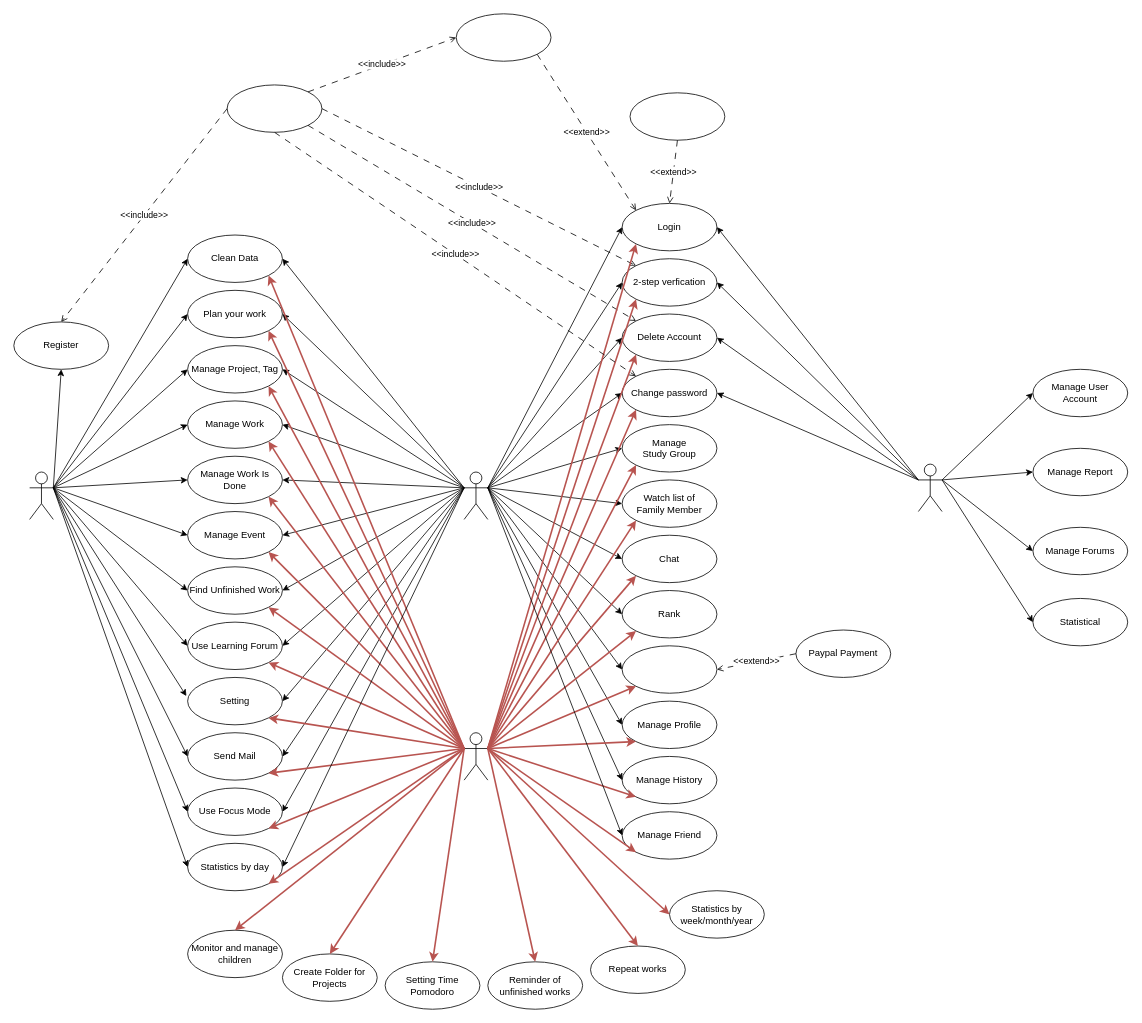
The diagram is 1142 pixels wide and 1023 high, and some of its shapes have lost their labels. Here are the shapes that lost their labels. From the top down, the centre of each, then its label:
At [503,37]: "Forgot Password".
At [274,108]: "OTP Verification".
At [677,116]: "Logout".
At [41,495]: "Guest".
At [475,495]: "User".
At [930,487]: "Admin".
At [669,669]: "Update Premium".
At [475,756]: "Premium User".
